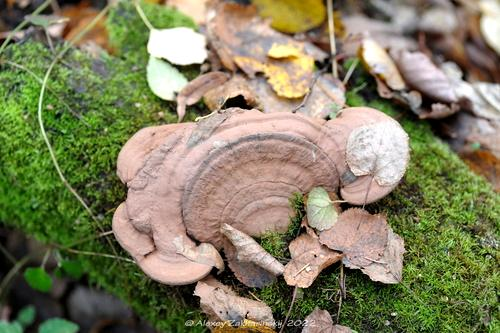Ganoderma - Fruit Body: (107, 106, 413, 287)
